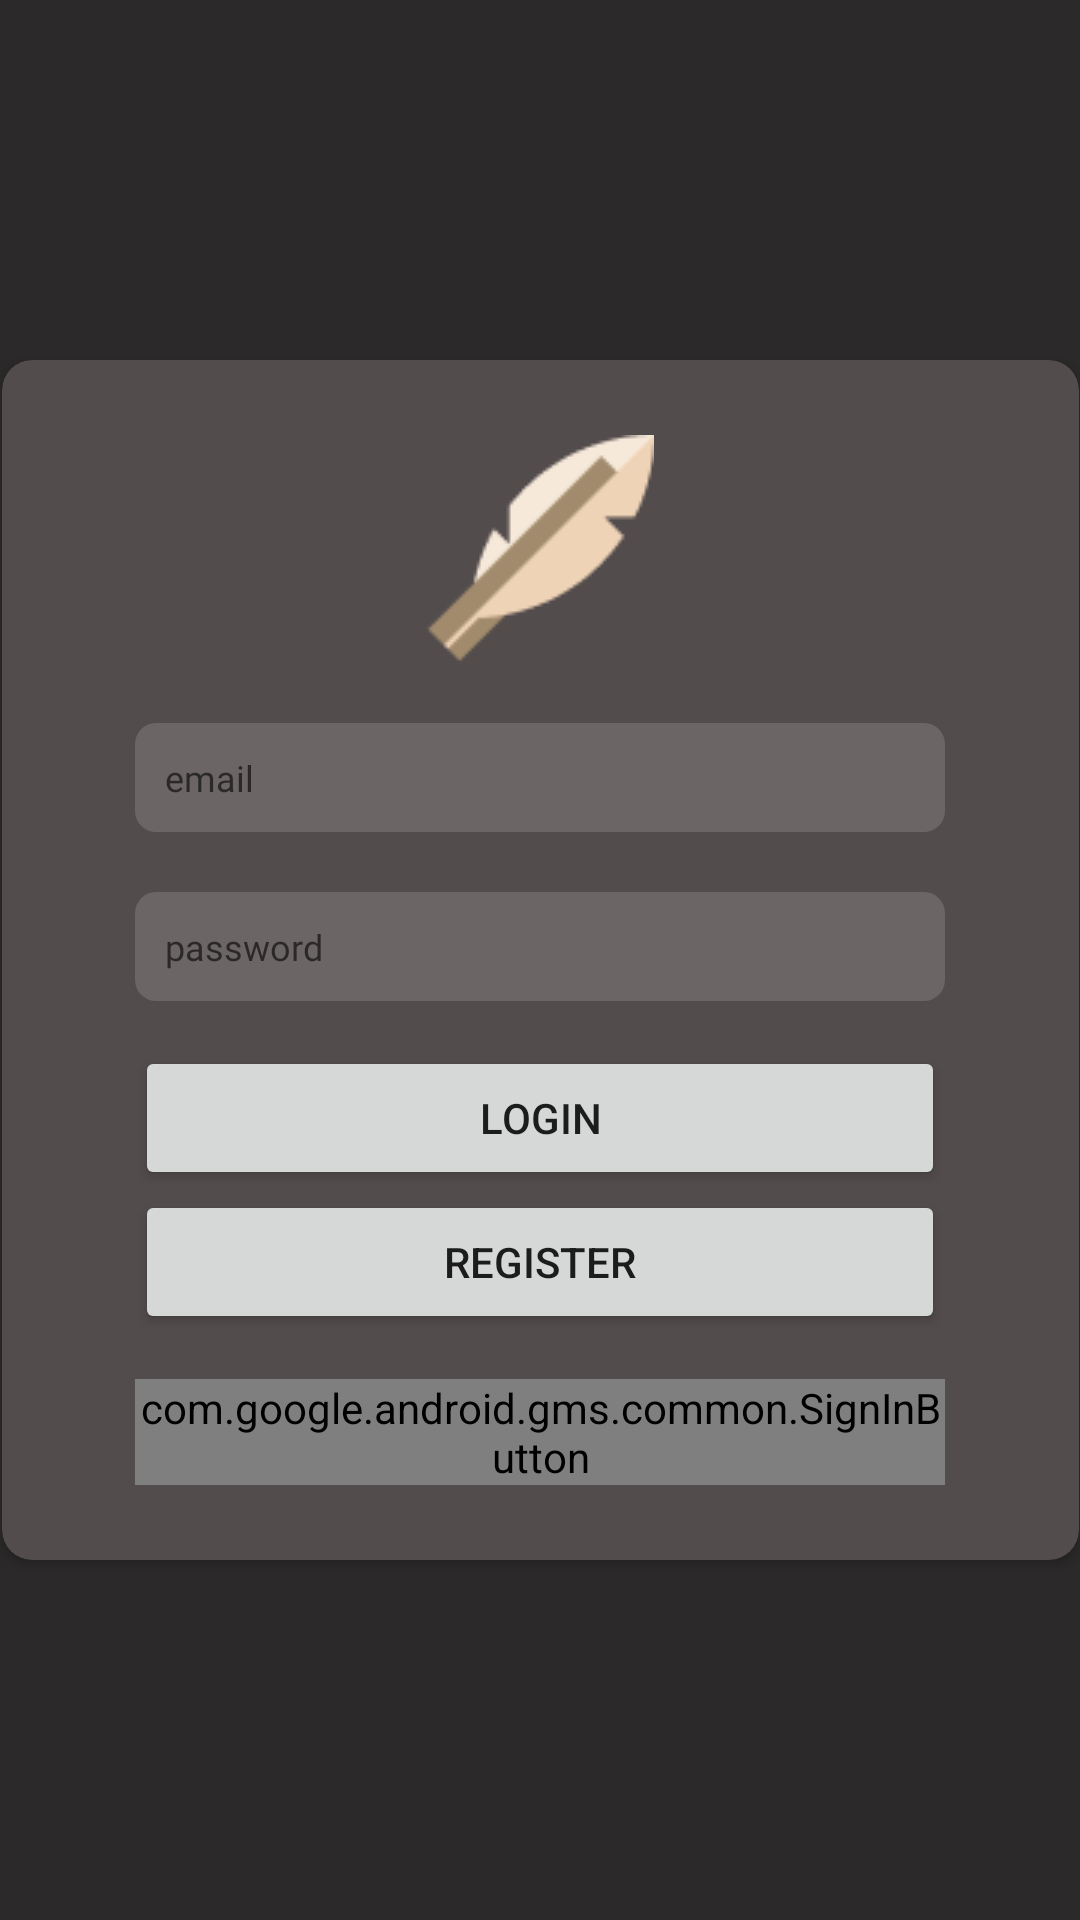

Locate icon controls on the screen. Image size 1080×1920, boxes as (x1, y1, x2, y2).
pen: (428, 435, 654, 661)
